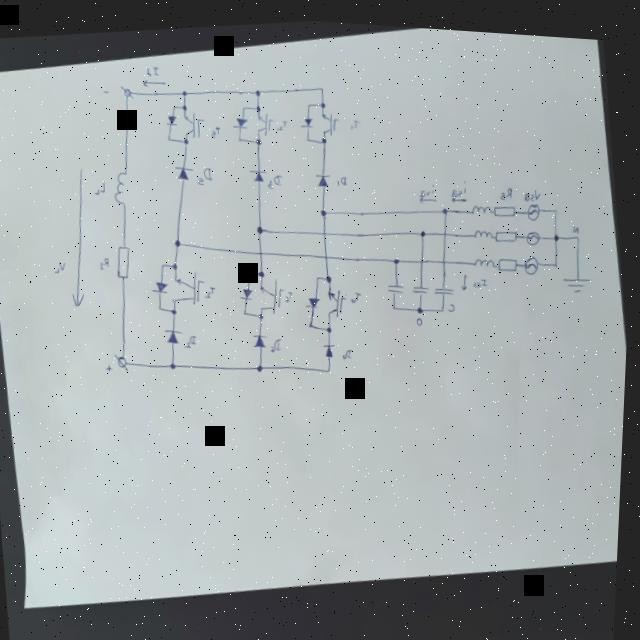capacitor: (434, 276, 457, 291), (412, 275, 431, 290), (387, 274, 406, 289)
crossover: (421, 252, 425, 257), (323, 224, 327, 229), (325, 248, 329, 252), (443, 252, 447, 256), (445, 224, 447, 228), (262, 246, 264, 250)
diode: (174, 159, 196, 180), (165, 321, 186, 342), (253, 326, 272, 346), (315, 164, 333, 185), (249, 161, 270, 178), (153, 275, 171, 292), (232, 110, 250, 127), (324, 335, 340, 353), (240, 280, 257, 296), (305, 289, 323, 304), (300, 108, 314, 123), (166, 108, 179, 124)
ground: (563, 264, 593, 287)
inductor: (112, 166, 133, 203), (472, 217, 494, 236), (473, 247, 498, 261), (471, 195, 492, 208)
junction: (256, 219, 266, 230), (419, 221, 428, 231), (171, 357, 180, 367), (258, 358, 267, 367), (174, 235, 183, 244), (441, 199, 450, 208), (320, 202, 328, 211), (254, 83, 261, 92), (259, 264, 266, 273), (181, 85, 188, 94), (326, 268, 333, 277), (309, 315, 316, 324), (327, 320, 334, 328), (172, 304, 180, 311), (173, 258, 180, 266), (327, 361, 335, 368), (247, 264, 254, 272), (183, 134, 190, 142), (439, 299, 446, 307), (255, 134, 262, 141), (319, 95, 326, 102), (392, 298, 399, 305), (418, 299, 425, 306), (244, 304, 250, 312), (318, 79, 324, 87), (237, 132, 243, 139), (316, 268, 322, 275), (306, 97, 312, 103), (575, 226, 581, 232), (554, 198, 559, 205), (167, 131, 172, 138), (162, 258, 167, 265), (395, 252, 400, 258), (261, 308, 266, 314), (322, 131, 327, 137), (256, 100, 261, 106), (555, 226, 559, 233), (555, 253, 560, 258), (182, 102, 187, 107), (161, 301, 165, 306), (172, 101, 176, 105), (242, 101, 246, 105), (306, 132, 310, 135)
resistor: (115, 239, 136, 278), (494, 219, 521, 237), (494, 193, 520, 211), (497, 247, 521, 266)
source: (523, 245, 542, 267), (526, 193, 543, 214), (526, 218, 542, 239)
terminal: (115, 347, 132, 370), (117, 79, 135, 100)
text: (195, 161, 216, 182), (449, 170, 470, 191), (417, 174, 438, 193), (92, 173, 109, 196), (53, 255, 71, 276), (267, 168, 285, 187), (269, 331, 286, 350), (472, 266, 490, 283), (143, 61, 161, 78), (523, 178, 542, 194), (498, 177, 515, 194), (98, 251, 114, 269), (184, 330, 200, 346), (204, 280, 219, 295), (275, 113, 289, 127), (351, 284, 364, 298), (344, 342, 357, 355), (336, 168, 349, 181), (210, 121, 223, 134), (348, 111, 360, 125), (285, 283, 296, 297), (105, 361, 117, 371), (448, 295, 458, 305), (417, 308, 426, 319), (572, 214, 581, 225), (101, 84, 110, 94)
transistor: (170, 263, 209, 303), (258, 271, 290, 310), (325, 279, 352, 313), (181, 106, 208, 138), (319, 103, 341, 132), (254, 106, 277, 133)
